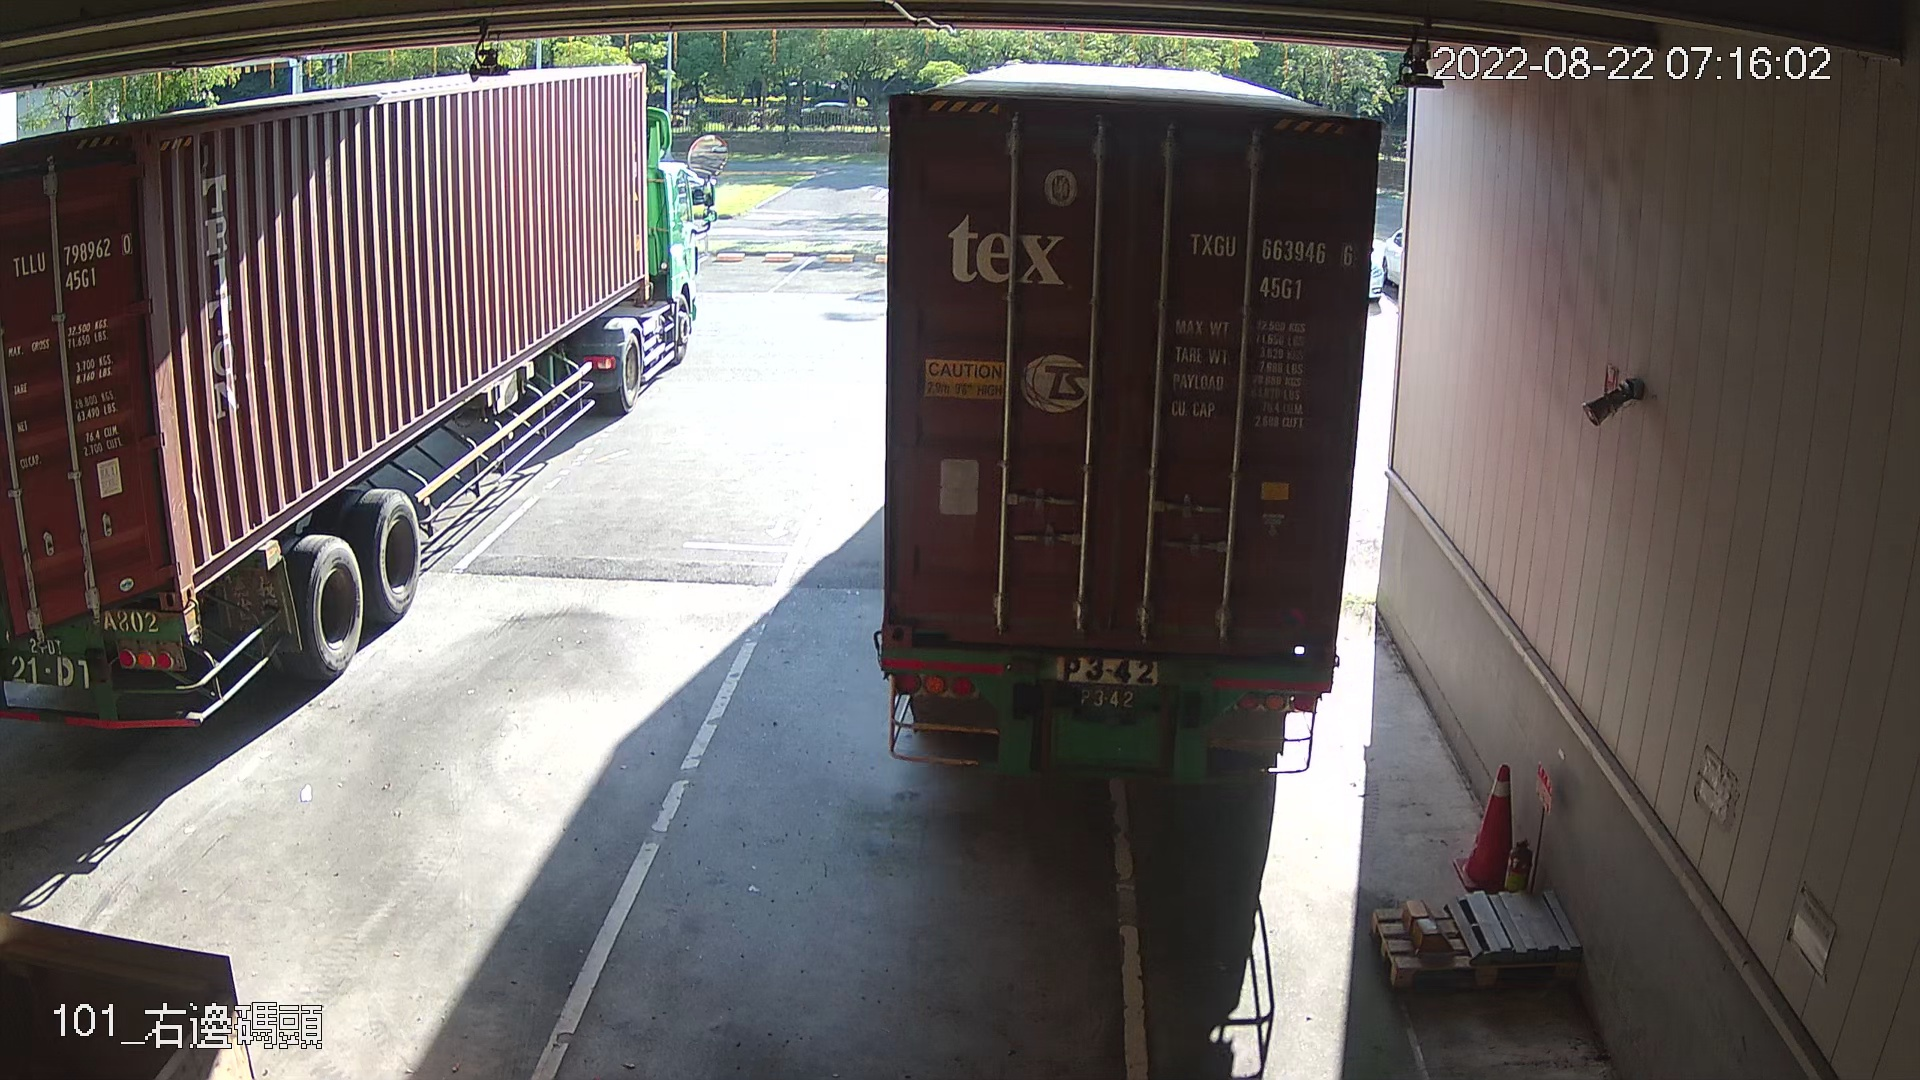container: (1182, 220, 1364, 309)
